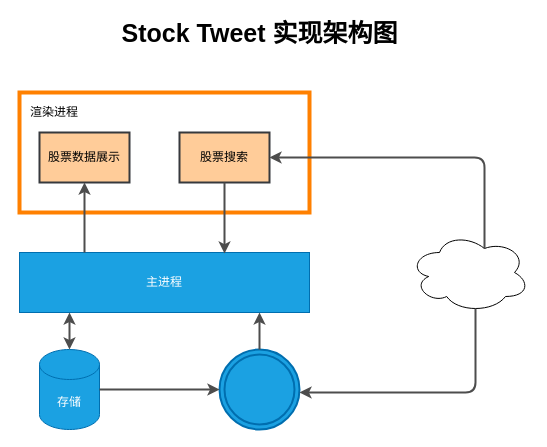
This 547x447 diagram has some shape labels left out. Here are the shapes that lost their labels. From the top down, the centre of each, then its label:
At (x=469, y=272): "股票数据API".
At (x=259, y=389): "定时任务".
